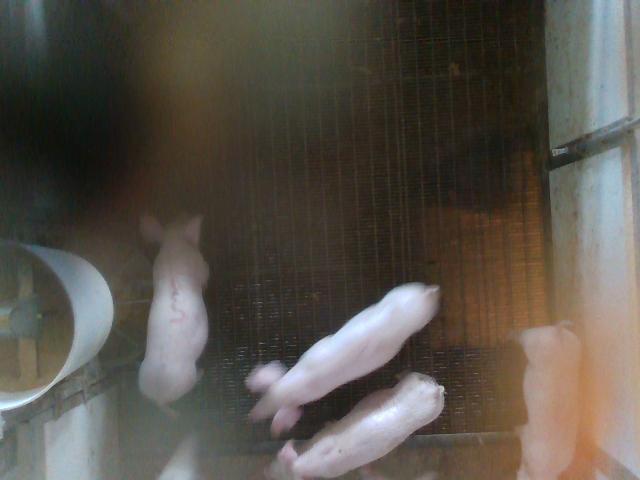pig-3: (139, 215, 209, 406)
